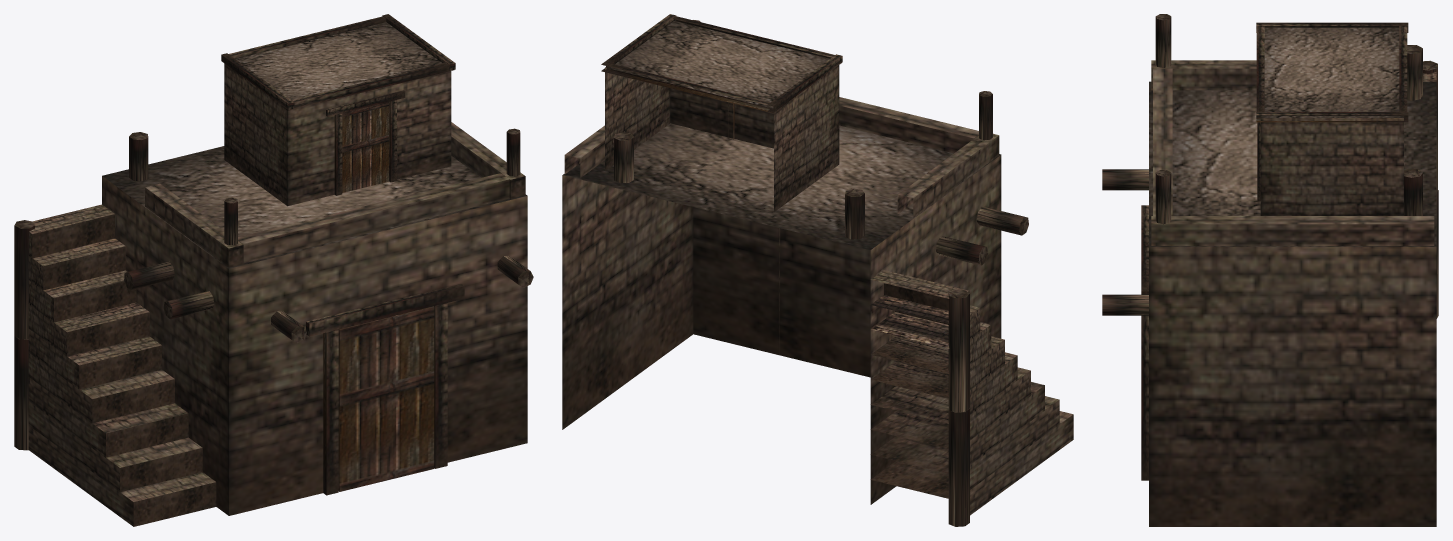
3 views of the same model, side by side, from view 1: azimuth 30°, elevation 25°; view 2: azimuth 150°, elevation 25°; view 3: azimuth 270°, elevation 25° (orthographic). The views are drawn at different scales.
Parts seen in each view (by area): view 1: wj11; view 2: wj11; view 3: wj11.
Boxes of the visible parts, x1=… form: wj11: x1=14, y1=14, x2=533, y2=526; wj11: x1=562, y1=14, x2=1073, y2=526; wj11: x1=1102, y1=14, x2=1438, y2=526.
Bounding box in the file's own units: 1234 × 1066 × 816.
